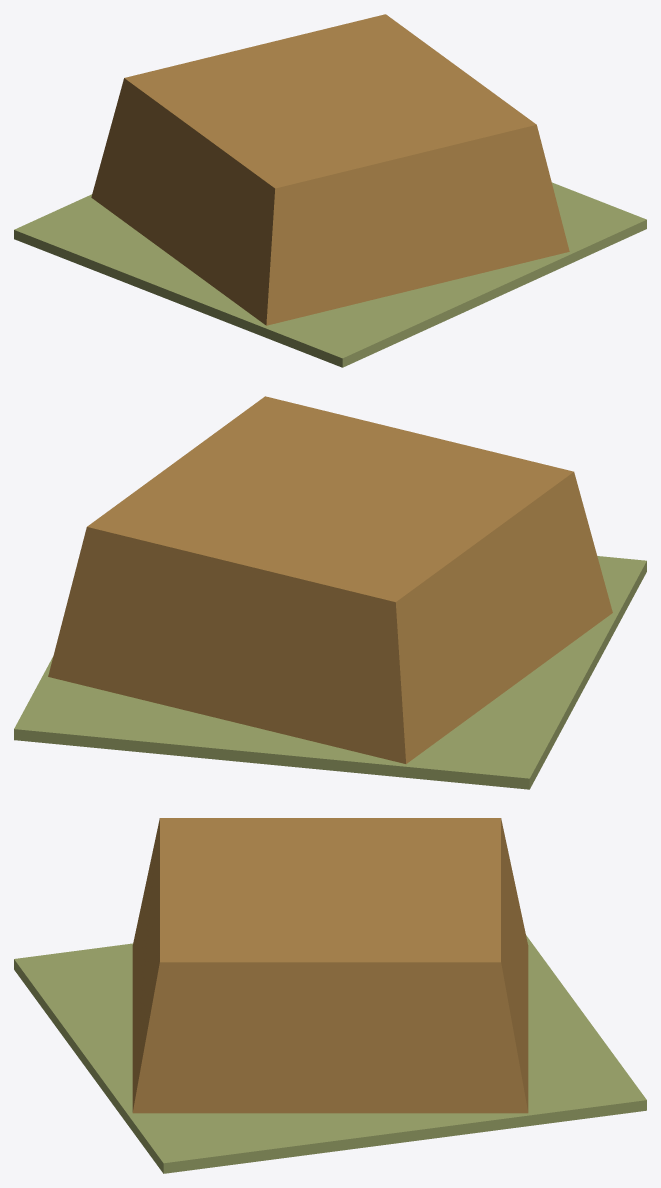
Rendered from panela.glb.
The picture shows the model from 3 angles, top to bottom: view 1: azimuth 30°, elevation 25°; view 2: azimuth 150°, elevation 25°; view 3: azimuth 270°, elevation 25°; orthographic projection. The views are drawn at different scales.
Parts seen in each view (by area): view 1: panela; view 2: panela; view 3: panela.
Boxes of the visible parts, left/top/right/bottom form: panela: left=14, top=14, right=646, bottom=367; panela: left=14, top=396, right=646, bottom=789; panela: left=14, top=818, right=646, bottom=1173.
Bounding box in the file's own units: 0.1626 × 0.0425 × 0.1626.
